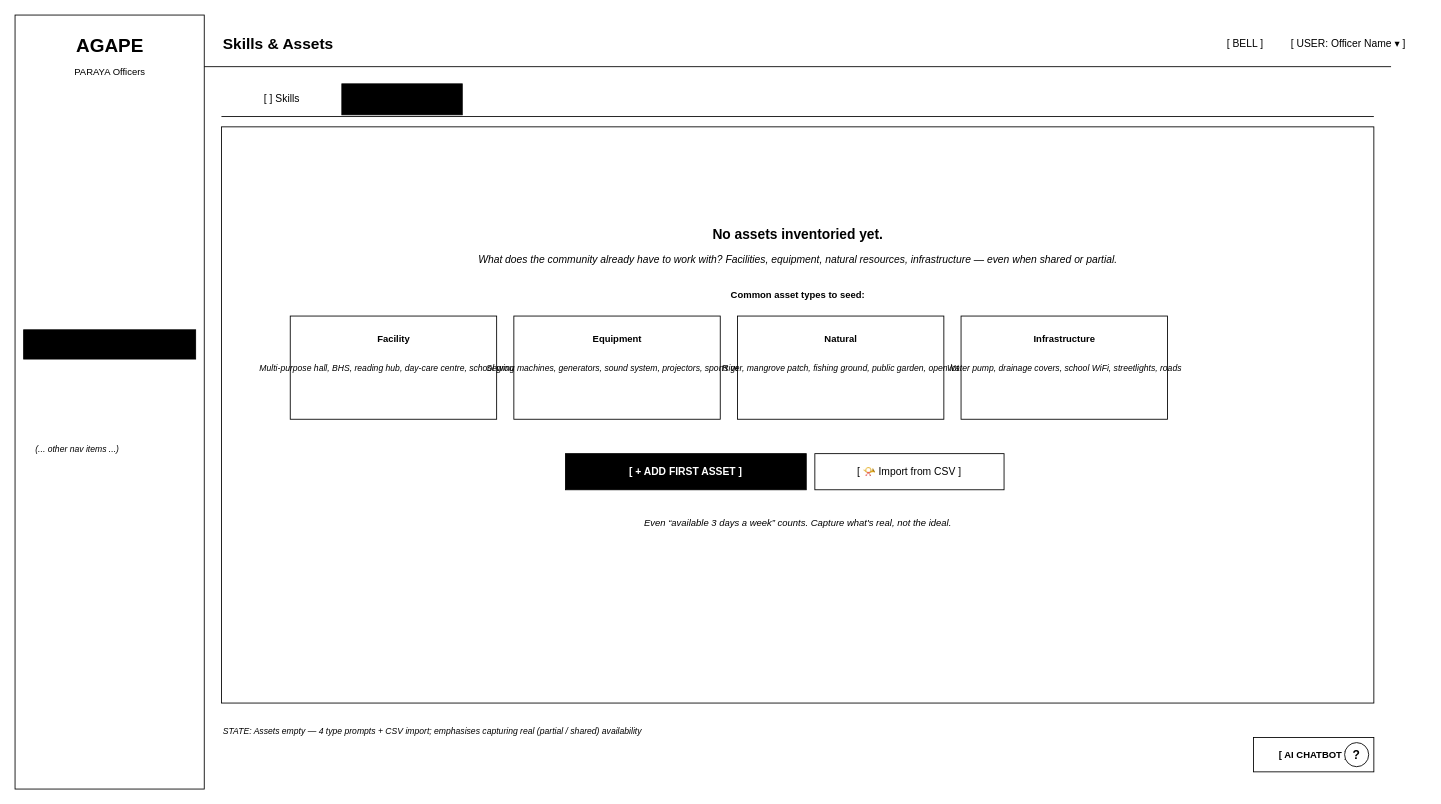
This 1441x804 diagram has some shape labels left out. The shapes that lost their labels are listed below. From the top down, each one's box as (x1, y1, x2, y2) in pixels, then its label:
(341, 83, 462, 115): [x] Assets
(23, 329, 196, 359): [x] Skills & Assets
